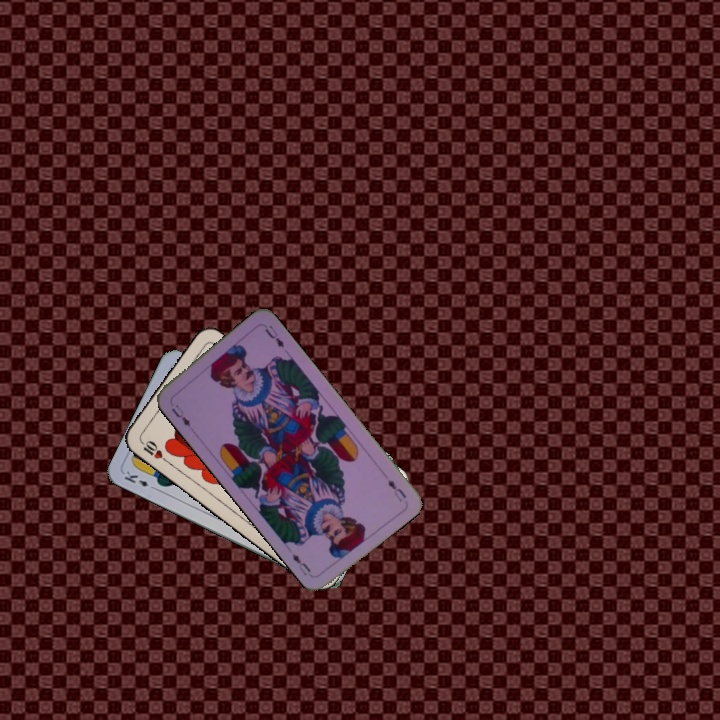EK: (120, 467, 159, 492)
EU: (167, 400, 193, 429), (384, 475, 409, 504)
H10: (136, 436, 171, 465)
